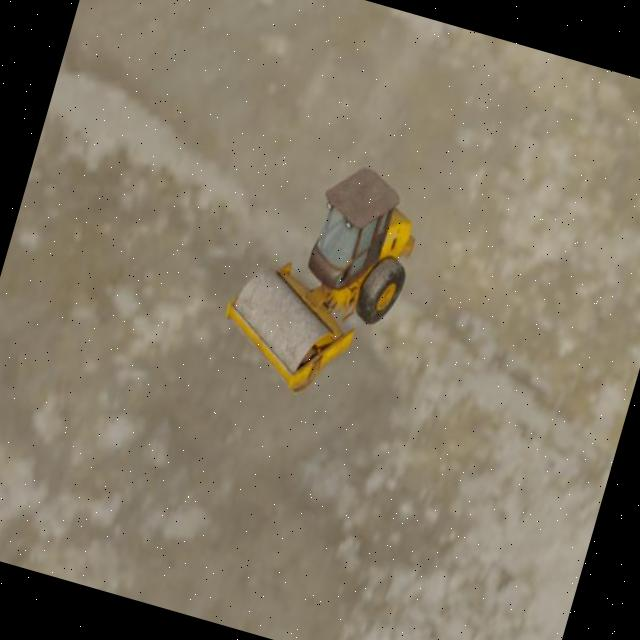Roller: (208, 140, 432, 414)
